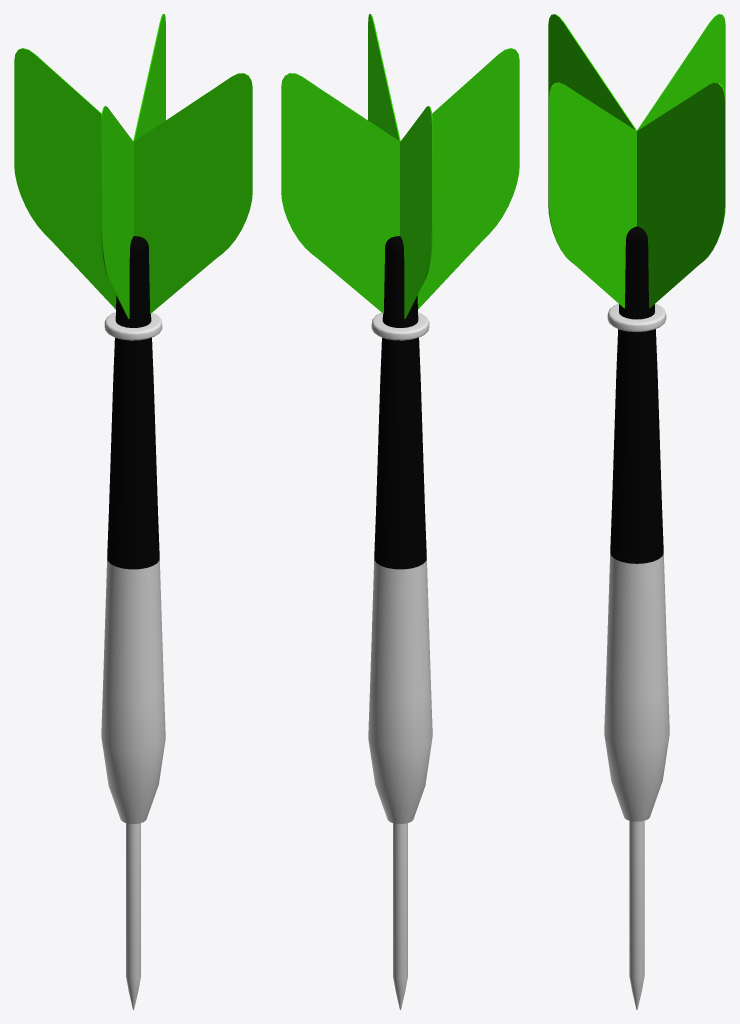
File: green_dart.glb
3 views of the same model, side by side, from view 1: azimuth 30°, elevation 25°; view 2: azimuth 150°, elevation 25°; view 3: azimuth 270°, elevation 25° (orthographic).
Visible parts, largest first — view 1: green_dart; view 2: green_dart; view 3: green_dart.
Part boxes in pixels (x1,y1,x2,y2): green_dart: [14, 14, 252, 1009]; green_dart: [281, 14, 519, 1009]; green_dart: [548, 14, 725, 1009].
Size of the model in its own units: 0.0261 by 0.1561 by 0.0261.
